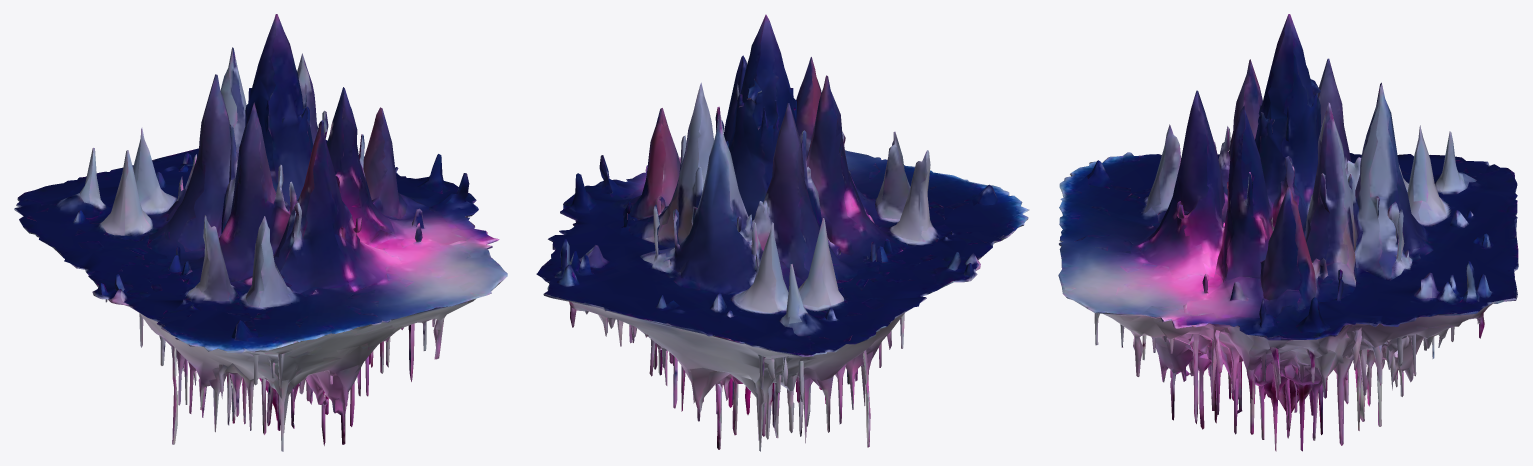
The model's file is outer-shoal-north-generated-2026-05-17T20-53-16-392Z.low.glb.
3 views of the same model, side by side, from view 1: azimuth 30°, elevation 25°; view 2: azimuth 150°, elevation 25°; view 3: azimuth 270°, elevation 25° (orthographic). The views are drawn at different scales.
Visible parts, largest first — view 1: temp_mesh.ply; view 2: temp_mesh.ply; view 3: temp_mesh.ply.
Part boxes in pixels (box(x1,y1,x2,y2)): temp_mesh.ply: box(14, 14, 507, 451); temp_mesh.ply: box(536, 14, 1029, 451); temp_mesh.ply: box(1058, 14, 1518, 451).
Bounding box in the file's own units: 1.95 × 1.97 × 1.98.
1 material, 1 textured.
